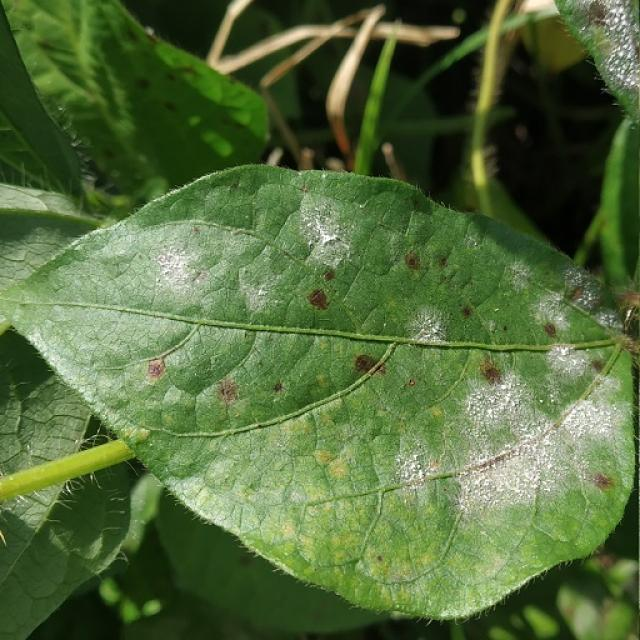Blackgram: (0, 161, 634, 622)
Powdery_Mildew: (442, 367, 554, 509), (521, 264, 625, 393), (544, 384, 627, 496), (574, 5, 639, 109), (295, 207, 353, 272), (293, 197, 351, 258), (154, 239, 217, 292), (467, 378, 525, 431), (541, 340, 596, 393), (391, 445, 435, 496), (532, 291, 581, 336), (558, 263, 601, 311), (241, 273, 280, 315), (406, 308, 446, 342), (502, 256, 536, 290)
